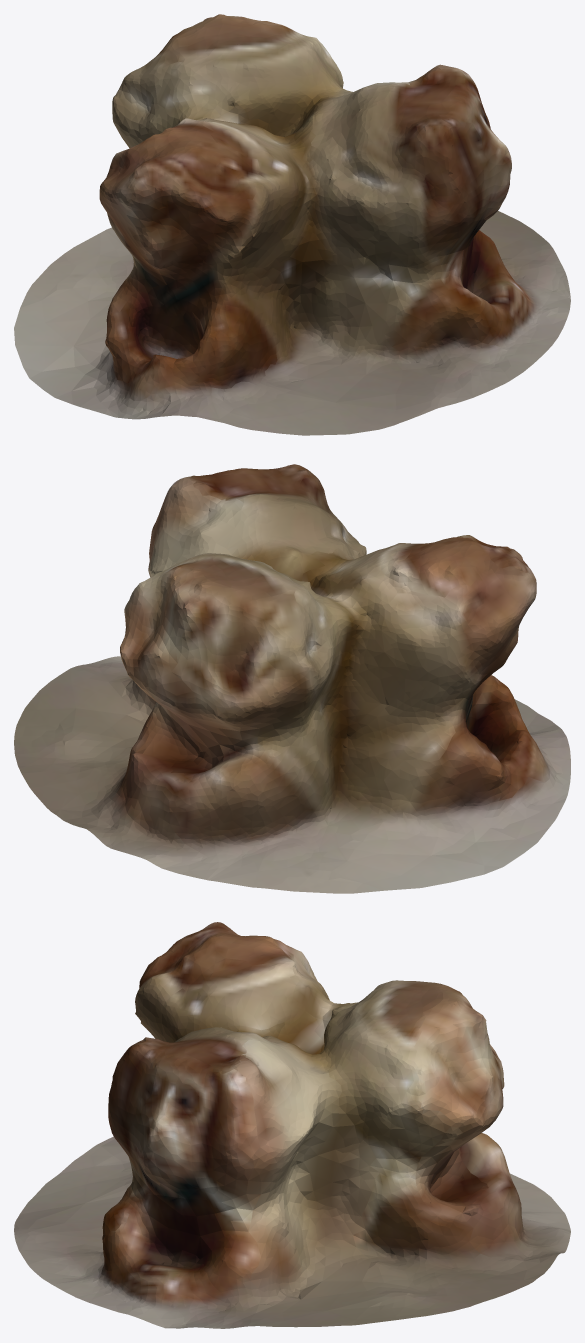
File: monkeys-BULXzizq.glb
The picture shows the model from 3 angles, top to bottom: view 1: azimuth 30°, elevation 25°; view 2: azimuth 150°, elevation 25°; view 3: azimuth 270°, elevation 25°; orthographic projection.
Parts seen in each view (by area): view 1: mesh; view 2: mesh; view 3: mesh.
Part boxes in pixels (x1,y1,x2,y2): mesh: (14, 14, 570, 435); mesh: (14, 464, 570, 893); mesh: (14, 922, 570, 1328).
Size of the model in its own units: 0.1005 by 0.0523 by 0.1004.
Materials: 1 (1 with a texture image).
